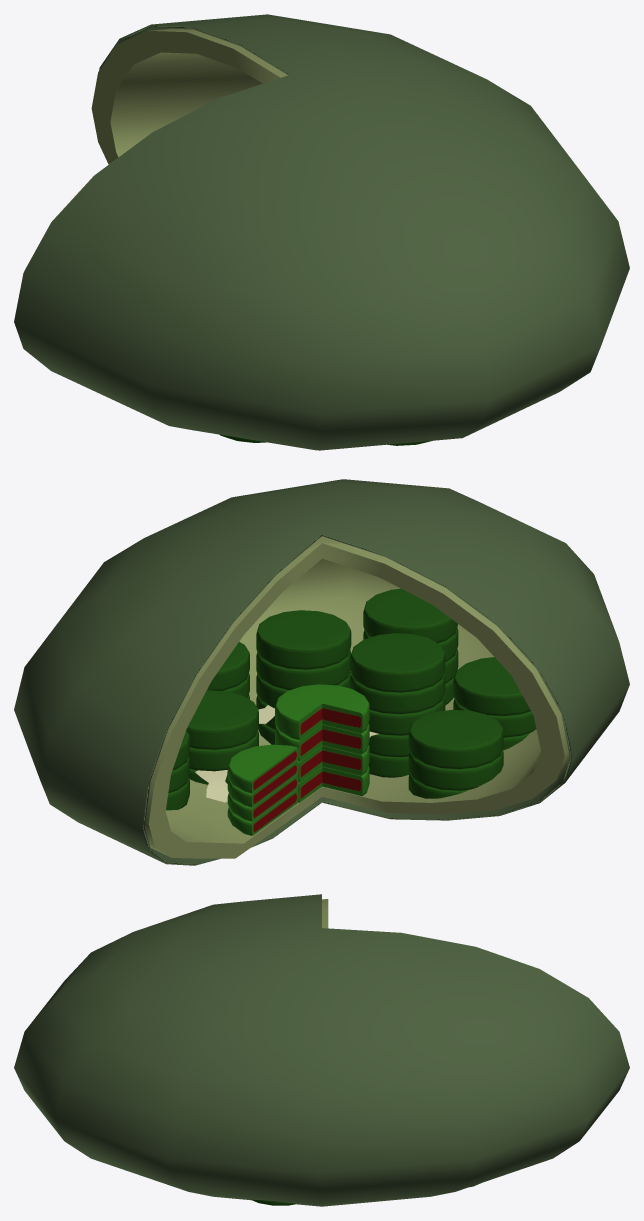
Rendered from photosynthesis.fbx.
3 views of the same model, one above another, from view 1: azimuth 30°, elevation 25°; view 2: azimuth 150°, elevation 25°; view 3: azimuth 270°, elevation 25° (orthographic). The views are drawn at different scales.
Visible parts, largest first — view 1: photosynthesis:pSphere3, photosynthesis:pSphere4; view 2: photosynthesis:pSphere3, cells, photosynthesis:pSphere4, half_cutted_cells, half_cutted_cell, cell_cont2; view 3: photosynthesis:pSphere3.
Boxes of the visible parts, left/top/right/bottom form: photosynthesis:pSphere3: left=14, top=14, right=629, bottom=450; photosynthesis:pSphere4: left=24, top=28, right=287, bottom=270; photosynthesis:pSphere3: left=14, top=479, right=629, bottom=865; cells: left=166, top=588, right=536, bottom=810; photosynthesis:pSphere4: left=144, top=536, right=569, bottom=858; half_cutted_cells: left=275, top=684, right=369, bottom=802; half_cutted_cell: left=227, top=744, right=298, bottom=835; cell_cont2: left=195, top=770, right=228, bottom=802; photosynthesis:pSphere3: left=14, top=894, right=629, bottom=1206.
Bounding box in the file's own units: 118 × 60.44 × 147.
4 materials, 2 textured.
